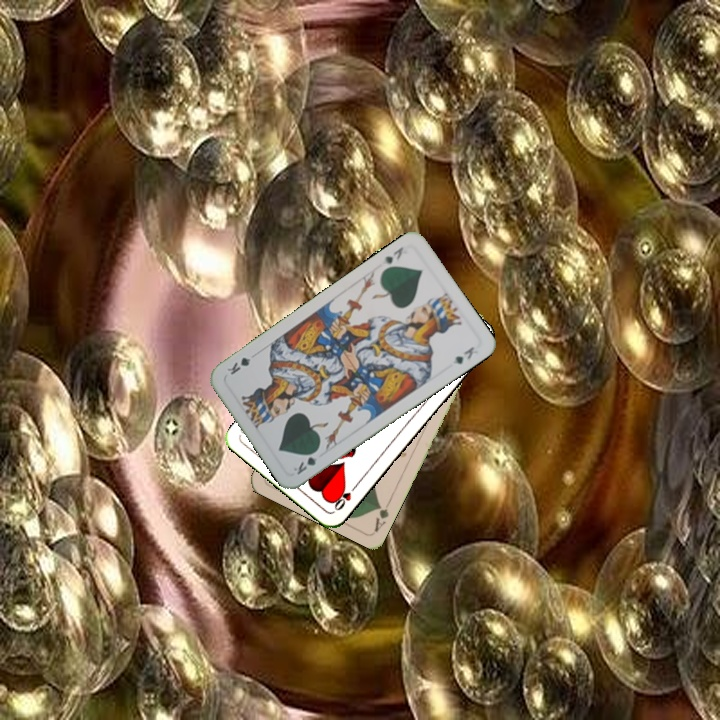GA: (370, 496, 394, 534)
GK: (289, 445, 322, 477), (378, 242, 406, 268)
HO: (330, 480, 360, 513)
